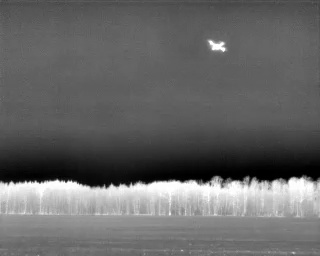DRONE: (204, 36, 231, 57)
